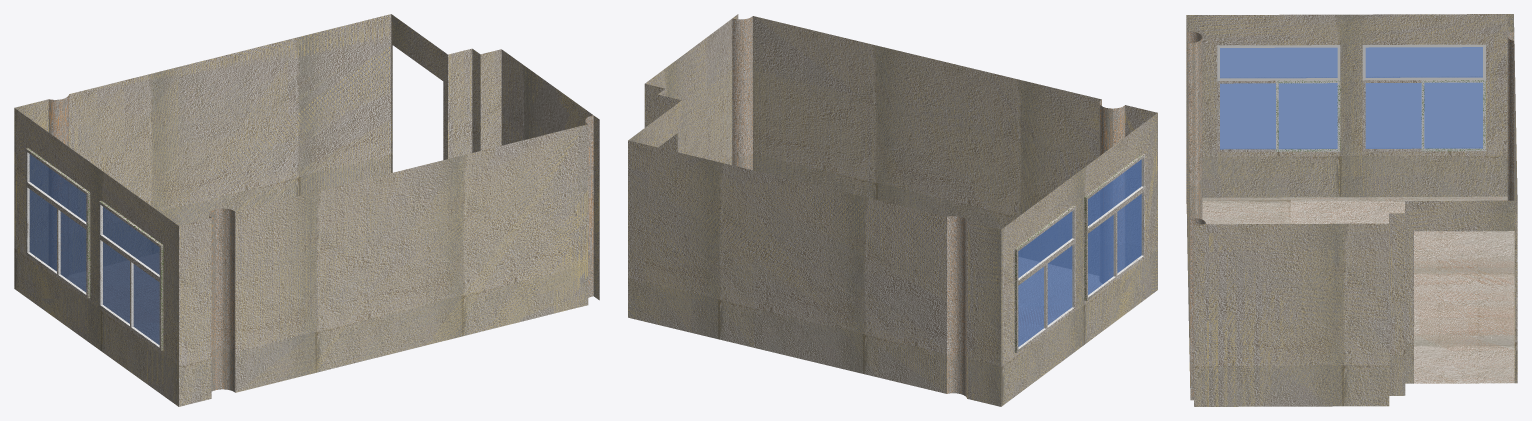
Rendered from AUL022.obj.
3 views of the same model, side by side, from view 1: azimuth 30°, elevation 25°; view 2: azimuth 150°, elevation 25°; view 3: azimuth 270°, elevation 25° (orthographic). The views are drawn at different scales.
Parts seen in each view (by area): view 1: Mesh13 AUL022 Model, Mesh7 ventana1_2_2 AUL022 Model, Mesh1 ventana1_2_1 AUL022 Model; view 2: Mesh13 AUL022 Model, Mesh1 ventana1_2_1 AUL022 Model, Mesh7 ventana1_2_2 AUL022 Model; view 3: Mesh13 AUL022 Model, Mesh1 ventana1_2_1 AUL022 Model, Mesh7 ventana1_2_2 AUL022 Model.
Boxes of the visible parts, bbox=[...] form: Mesh13 AUL022 Model: bbox=[14, 14, 599, 406]; Mesh7 ventana1_2_2 AUL022 Model: bbox=[99, 200, 163, 350]; Mesh1 ventana1_2_1 AUL022 Model: bbox=[26, 148, 90, 298]; Mesh13 AUL022 Model: bbox=[628, 14, 1157, 406]; Mesh1 ventana1_2_1 AUL022 Model: bbox=[1014, 205, 1075, 352]; Mesh7 ventana1_2_2 AUL022 Model: bbox=[1084, 153, 1145, 301]; Mesh13 AUL022 Model: bbox=[1186, 14, 1517, 406]; Mesh1 ventana1_2_1 AUL022 Model: bbox=[1362, 44, 1485, 151]; Mesh7 ventana1_2_2 AUL022 Model: bbox=[1217, 45, 1340, 151].
Size of the model in its own units: 8.93 by 3.6 by 5.92.
8 materials, 2 textured.
